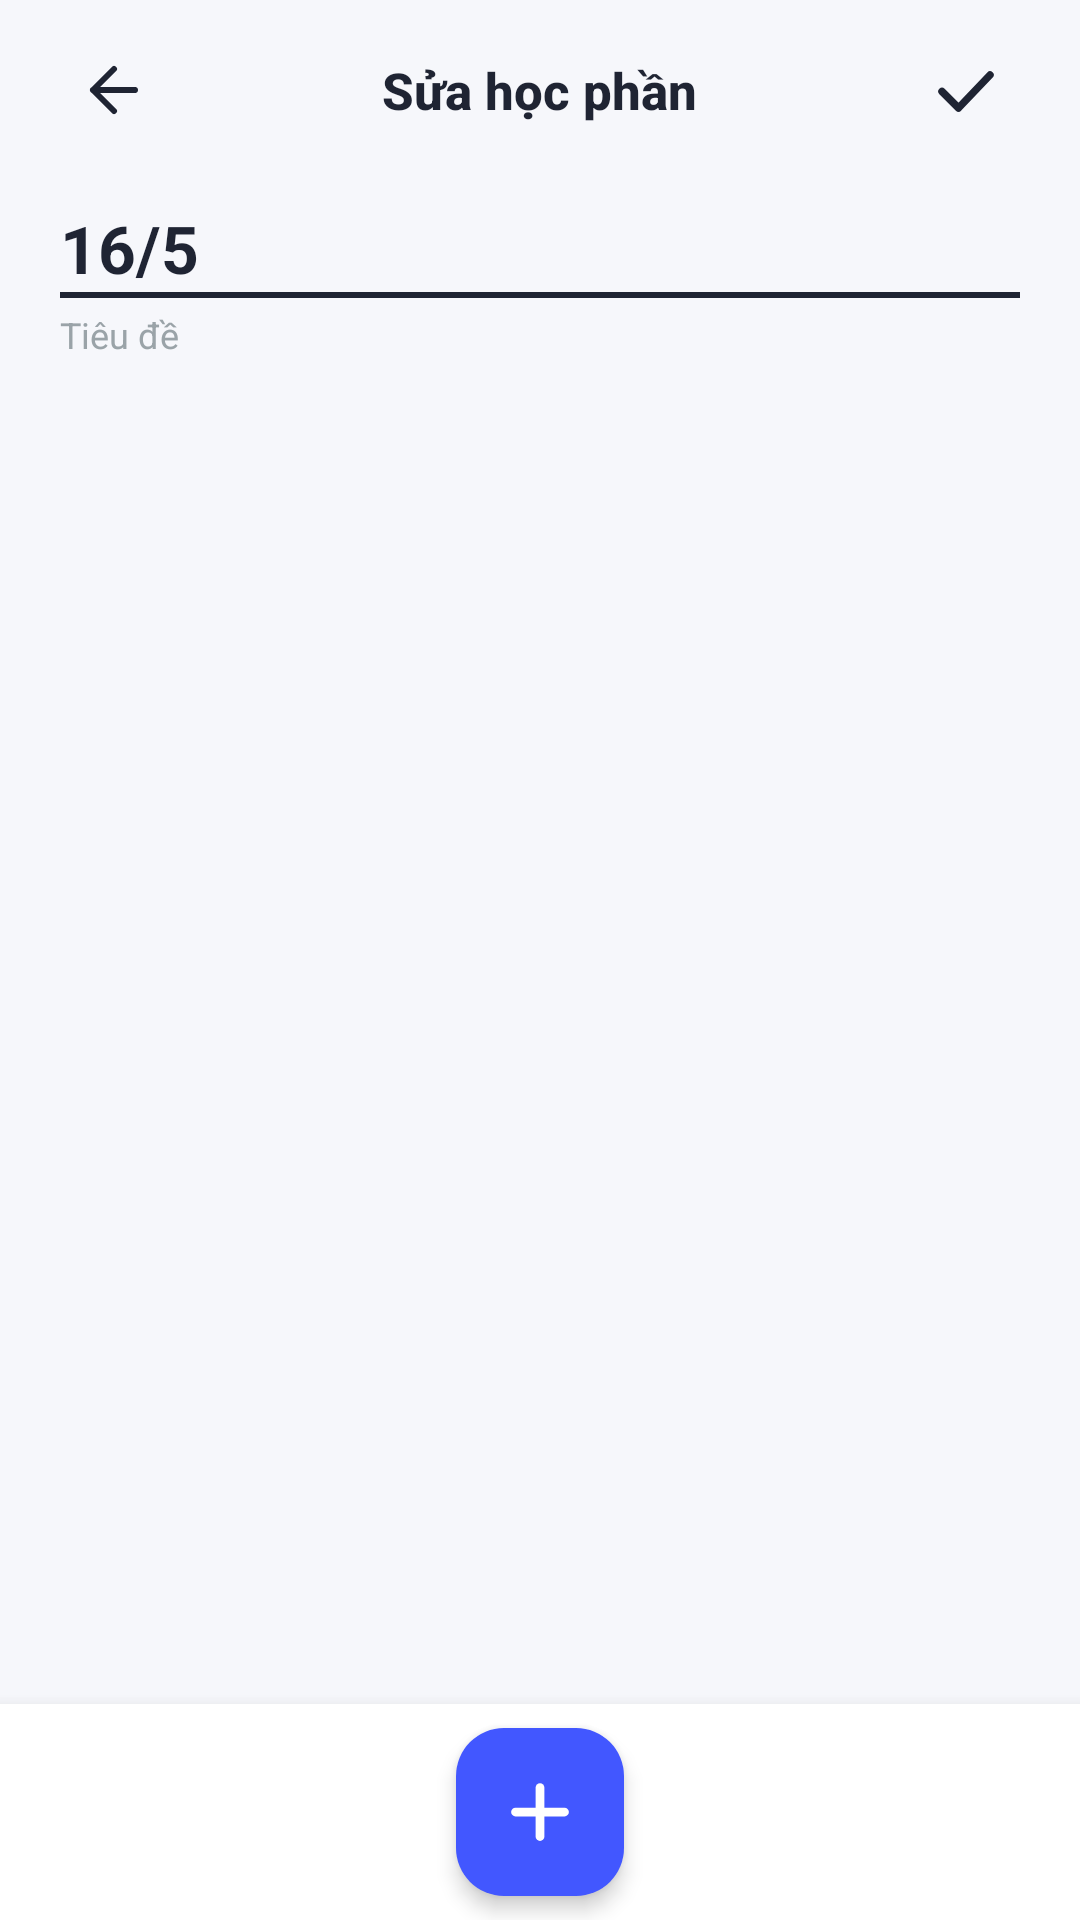

Screen size 1080w x 1920h. Icon name, then its box in pixels as (x1, y1, x2, y2):
add: (456, 1728, 624, 1896)
back: (90, 66, 138, 114)
check: (938, 71, 994, 112)
